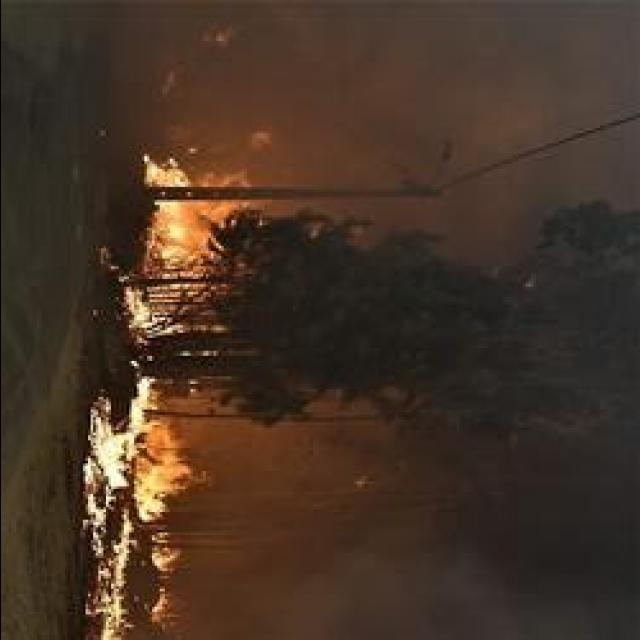fire: (134, 427, 184, 524), (151, 201, 214, 275), (85, 422, 135, 490)
